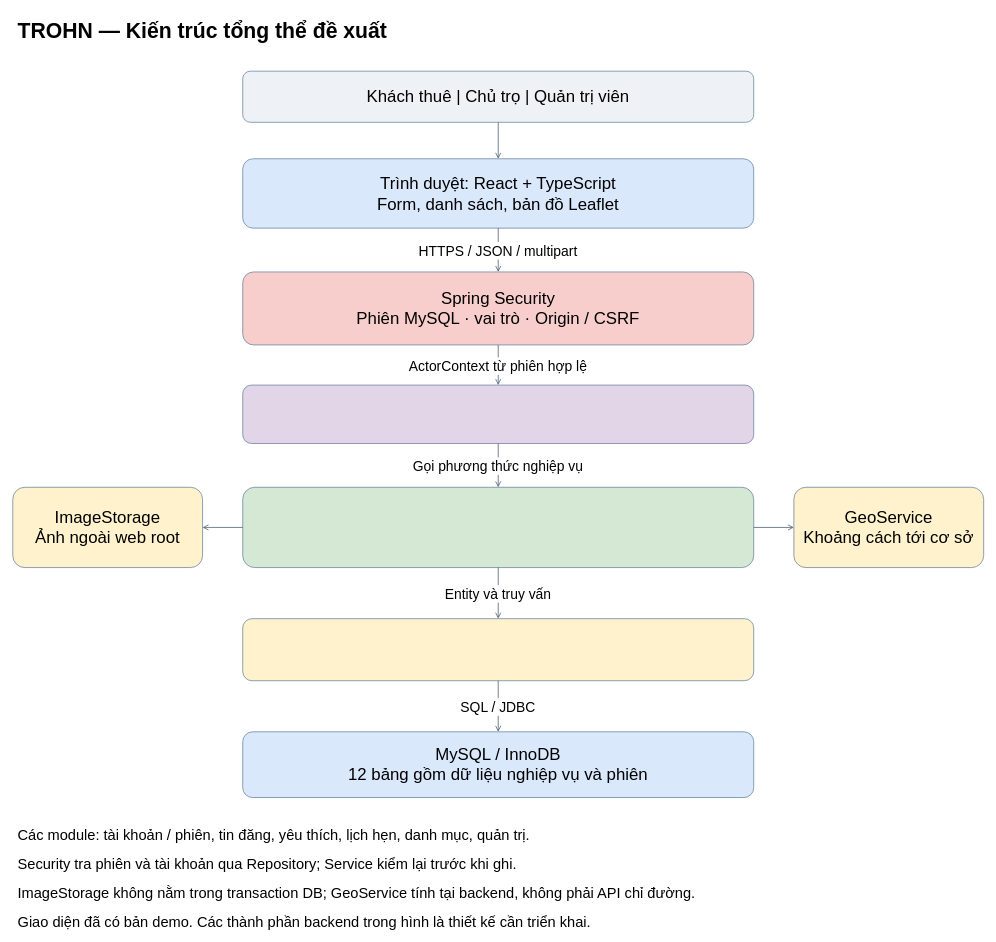
Image size: 996x942. Some labels were removed from this diagram. The centre of each missing label's shape, as x and y in pixels:
"Controller: HTTP và Request / Response DTO" belongs at point (498, 413).
"Repository / JPA: truy vấn, khóa và lưu dữ liệu" belongs at point (498, 649).
"Service: nghiệp vụ và quyền sở hữu Ranh giới transaction cho thao tác nhiều bảng" belongs at point (498, 527).
